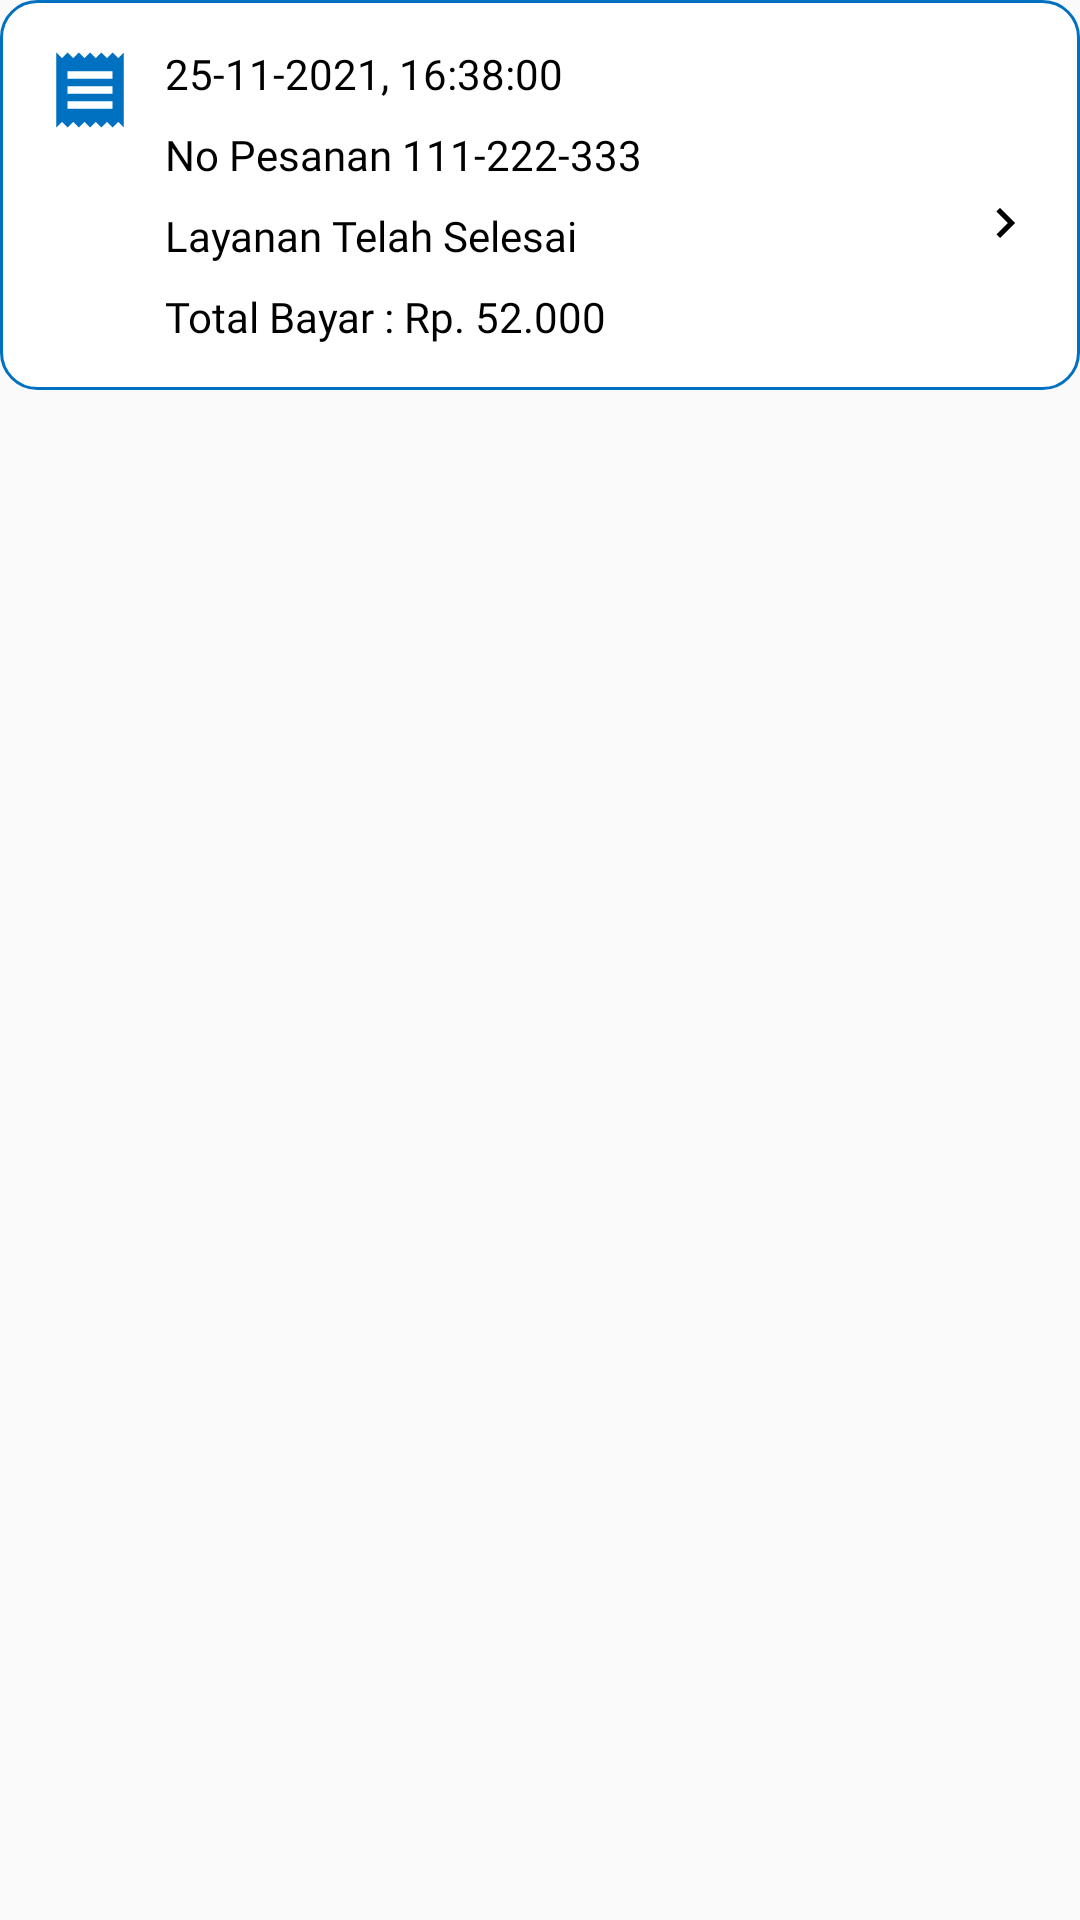

Where to tap for icons on this 1080 × 1920 app screen, as (x,y):
arrow right: (1005,223)
order: (90,90)
